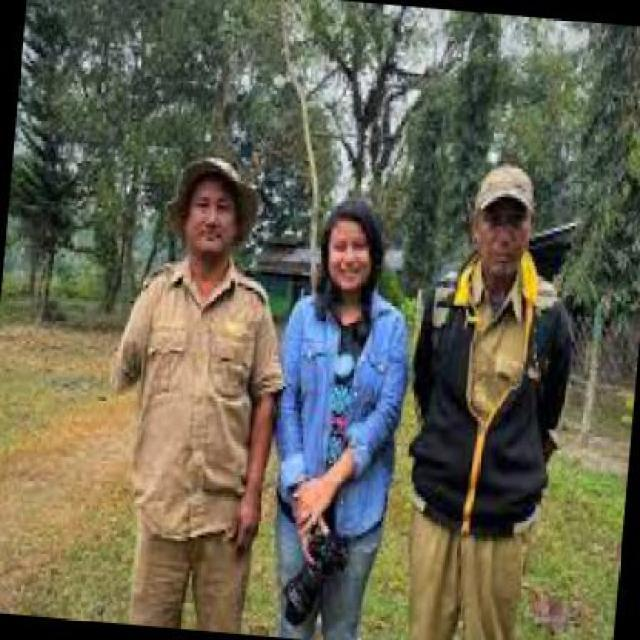ranger: (51, 141, 279, 559), (410, 164, 586, 589)
